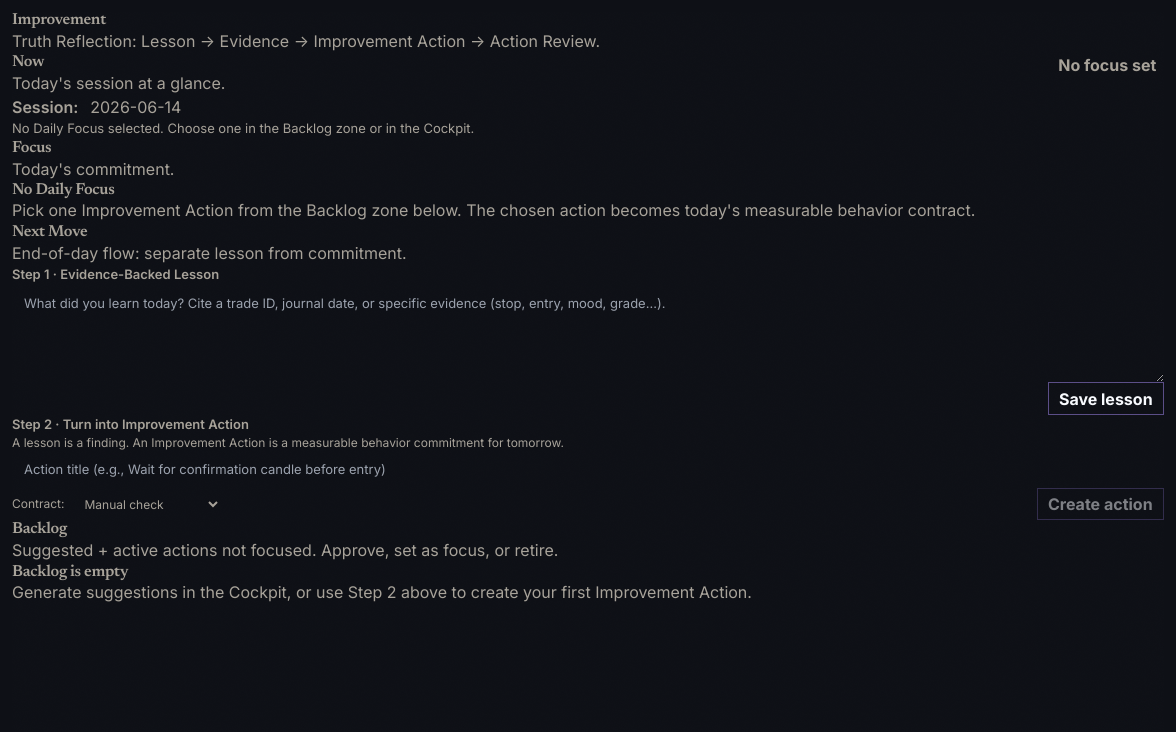
ImprovementV3Page › Next Move shows Reality Check warning when lesson lacks evidence
Replace the text in the text box named "Evidence-backed lesson" with "I was bad today." at (588, 334), box [12,284,1164,382]
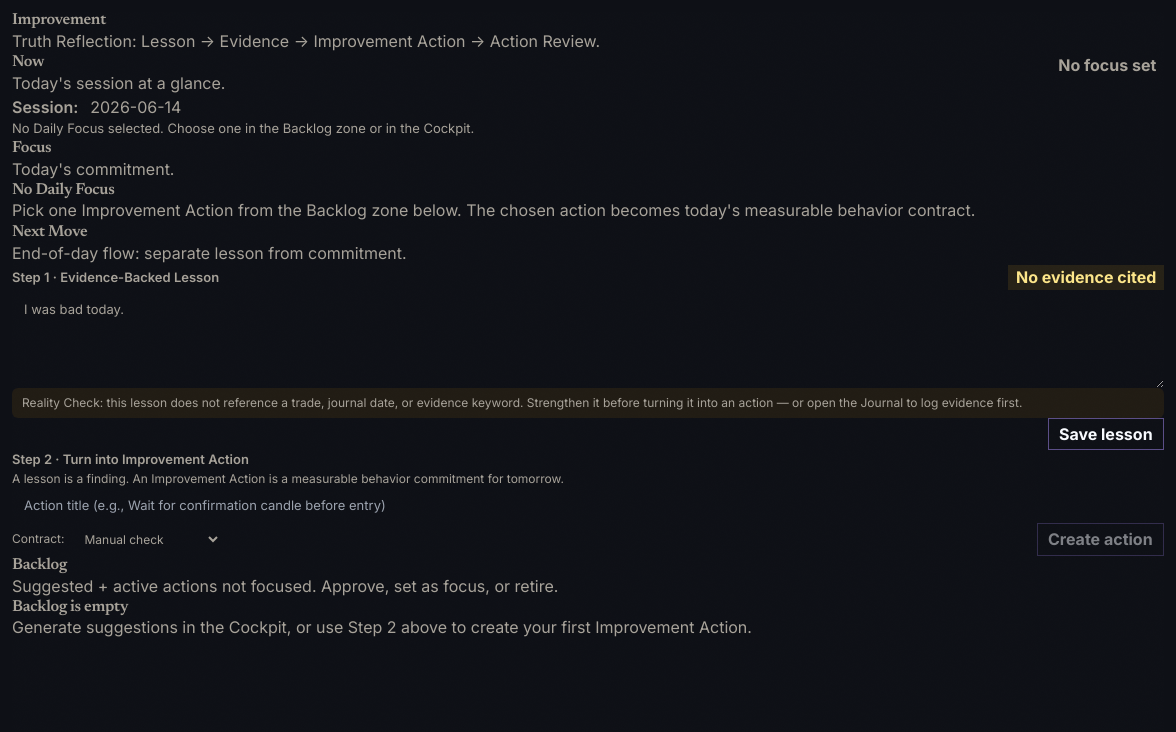
Check: the text "No evidence cited" is shown, box [1016,270,1156,286]
Check: the message shows "Reality Check", box [22,395,1022,410]
